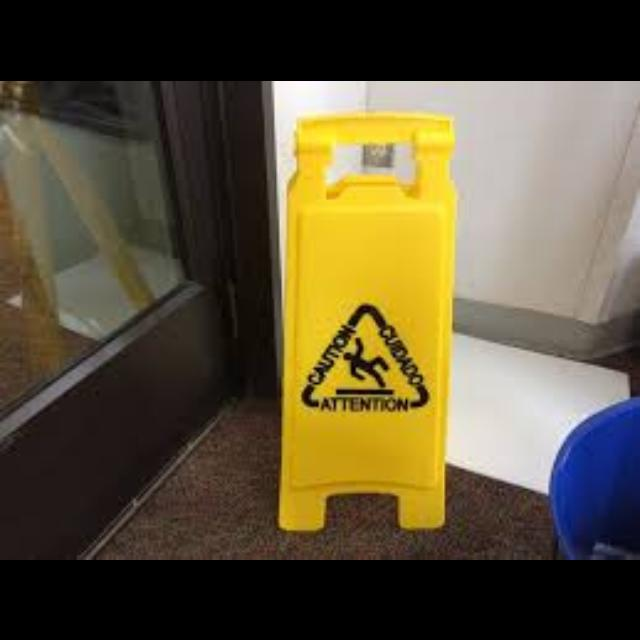tron truot: (279, 112, 455, 527)
